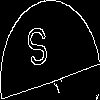S: (25, 25, 51, 78)
